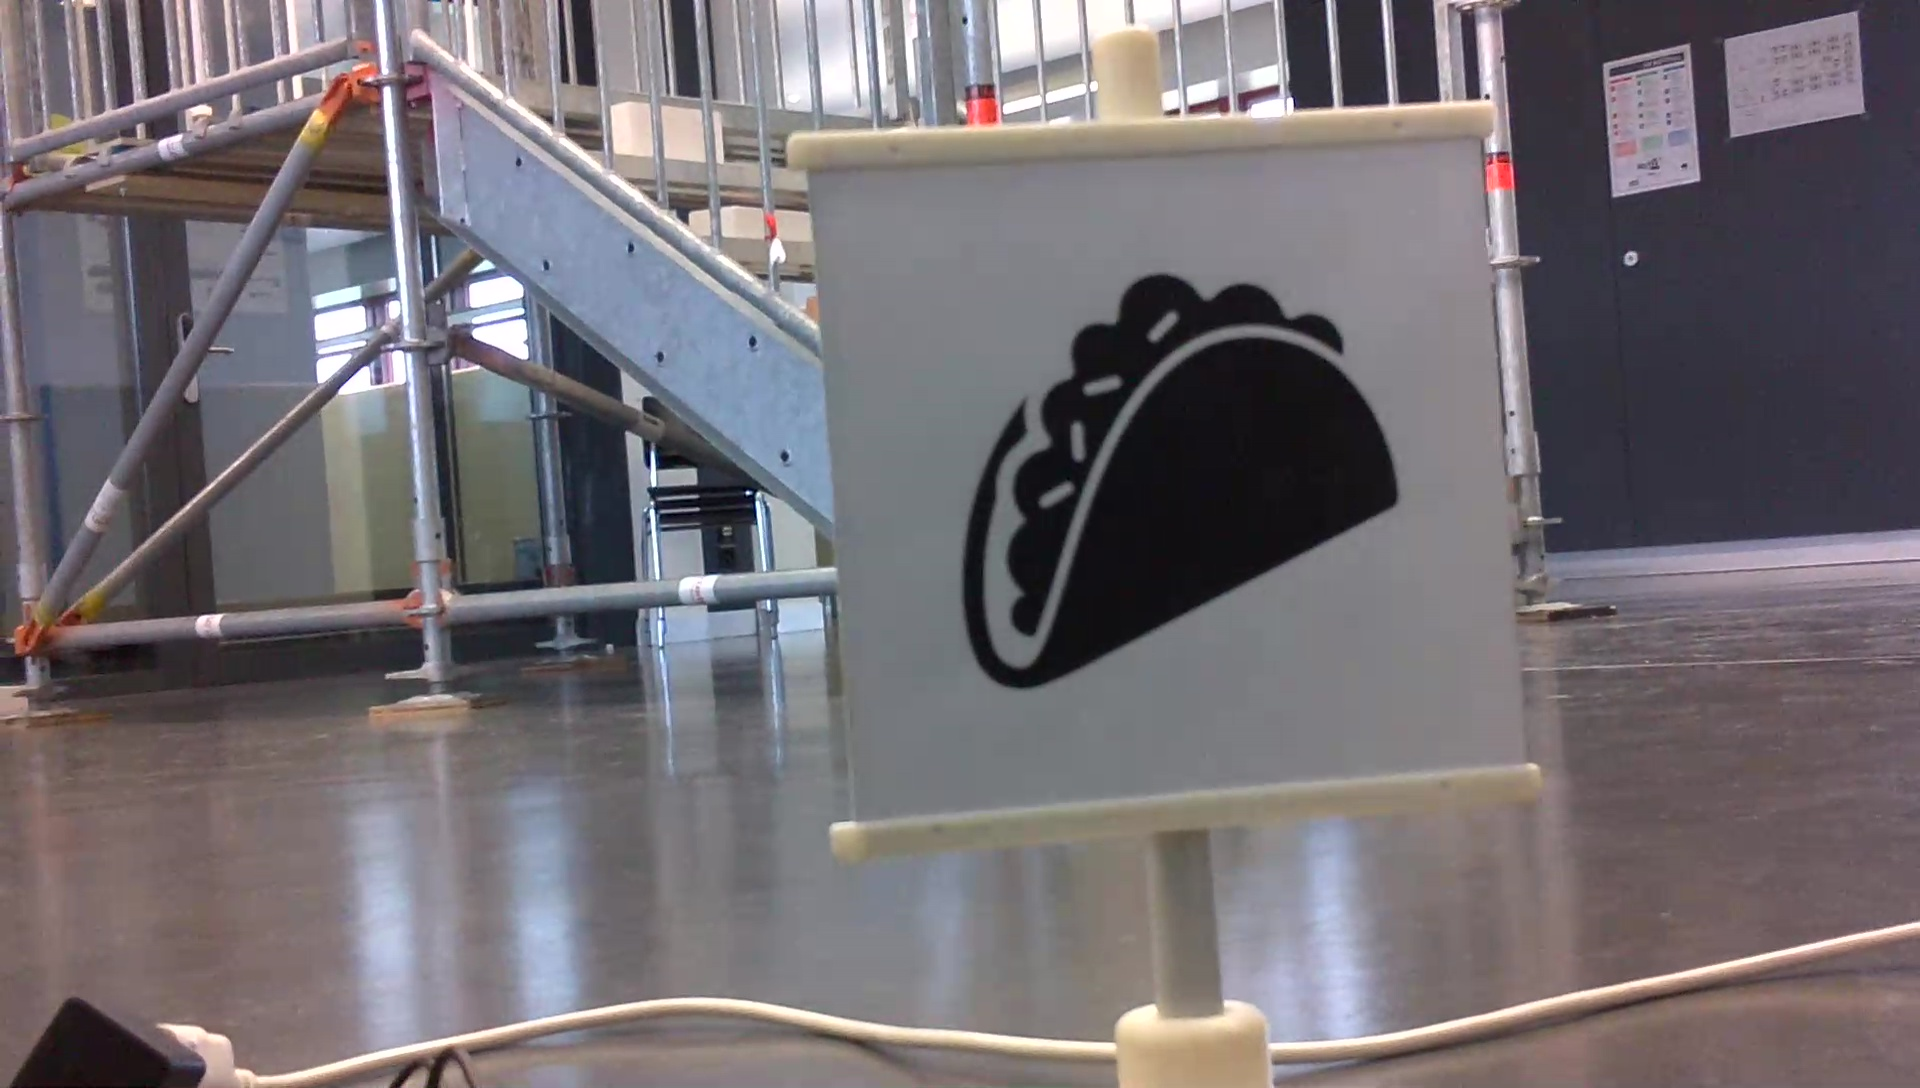taco: (942, 262, 1415, 698)
